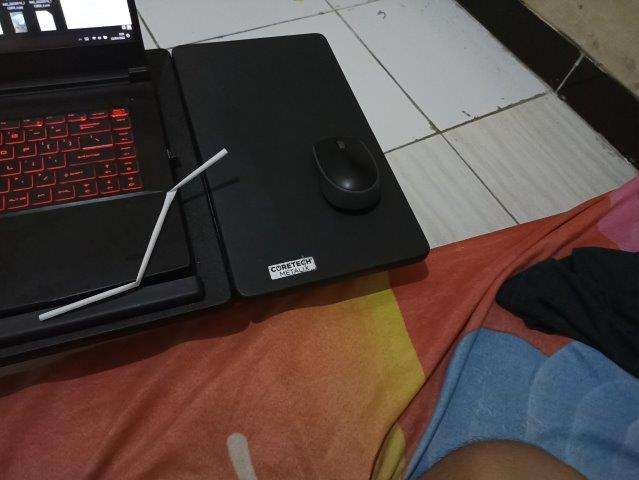sedotan: (40, 150, 227, 319)
